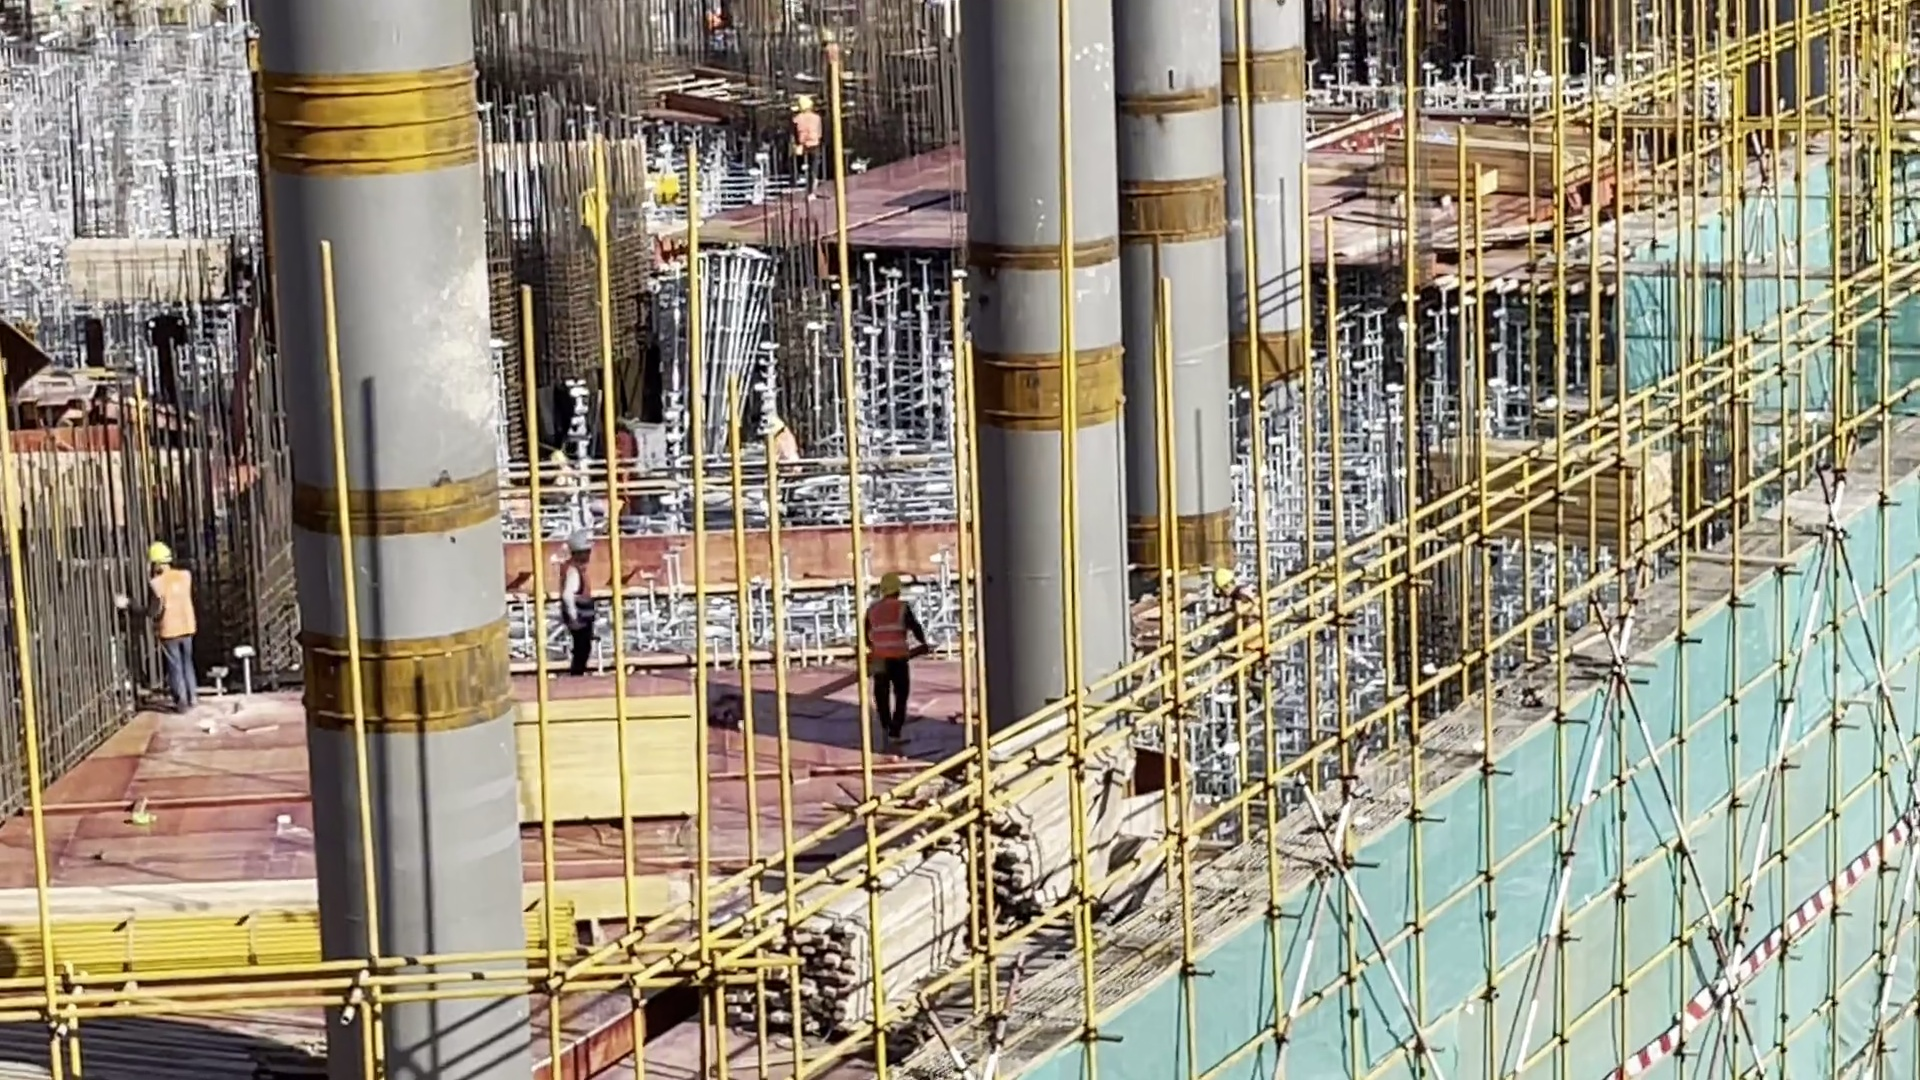helmet: (138, 533, 173, 570), (559, 526, 595, 552), (758, 413, 783, 438), (878, 575, 900, 598)
person: (111, 529, 203, 710), (839, 568, 928, 748), (540, 528, 619, 680), (780, 95, 835, 195), (755, 405, 801, 497)
vest: (137, 576, 189, 641), (555, 555, 603, 625), (871, 612, 914, 683)
wood: (719, 845, 970, 1028), (974, 683, 1160, 922)
